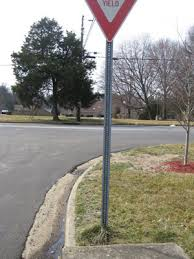yield: (81, 1, 139, 41)
